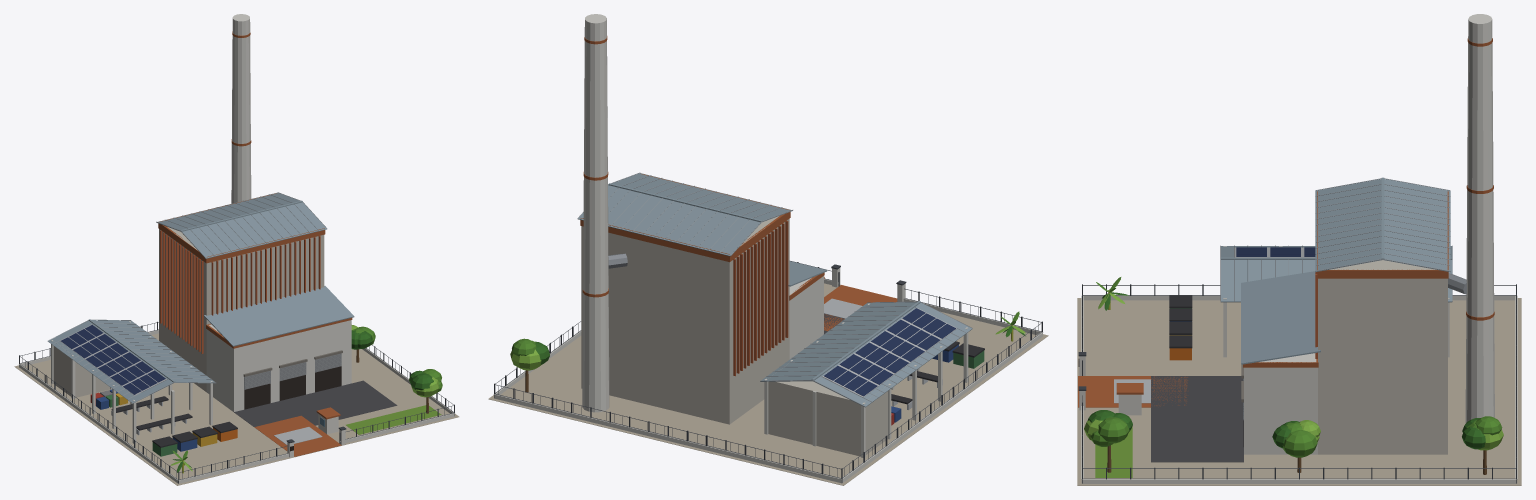
The model's file is waste.glb.
The picture shows the model from 3 angles, left to right: view 1: azimuth 30°, elevation 25°; view 2: azimuth 150°, elevation 25°; view 3: azimuth 270°, elevation 25°; orthographic projection. The views are drawn at different scales.
Parts seen in each view (by area): view 1: body, windows; view 2: body; view 3: body.
Part boxes in pixels (x1=…): body: x1=14, y1=14, x2=459, y2=485; windows: x1=244, y1=366, x2=341, y2=409; body: x1=488, y1=14, x2=1048, y2=485; body: x1=1077, y1=14, x2=1521, y2=485.
Size of the model in its own units: 47.9 by 50.03 by 47.9.
